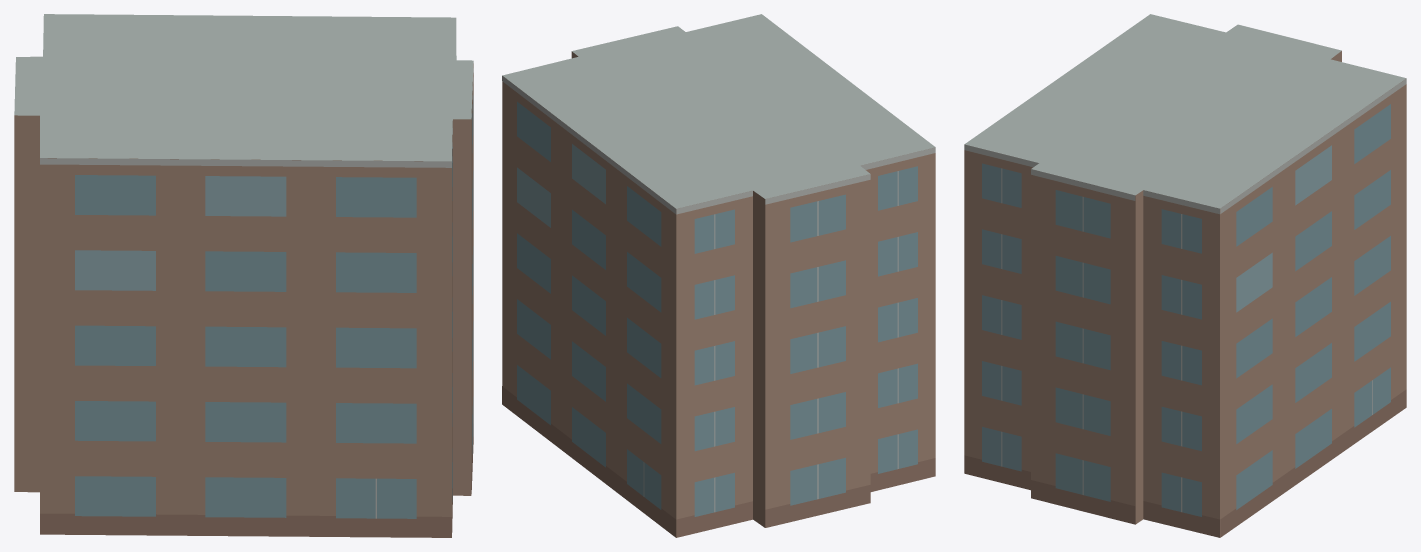
Rendered from survey-upis-32652261.glb.
3 renders of one model, left to right at view 1: azimuth 30°, elevation 25°; view 2: azimuth 150°, elevation 25°; view 3: azimuth 270°, elevation 25°, orthographic. The views are drawn at different scales.
Parts seen in each view (by area): view 1: survey-upis-32652261.tmp; view 2: survey-upis-32652261.tmp; view 3: survey-upis-32652261.tmp.
Boxes of the visible parts, x1,y1,x2,y2 form: survey-upis-32652261.tmp: (14, 14, 473, 537); survey-upis-32652261.tmp: (502, 14, 935, 537); survey-upis-32652261.tmp: (964, 14, 1406, 537).
Size of the model in its own units: 17.89 by 14.1 by 17.18.
